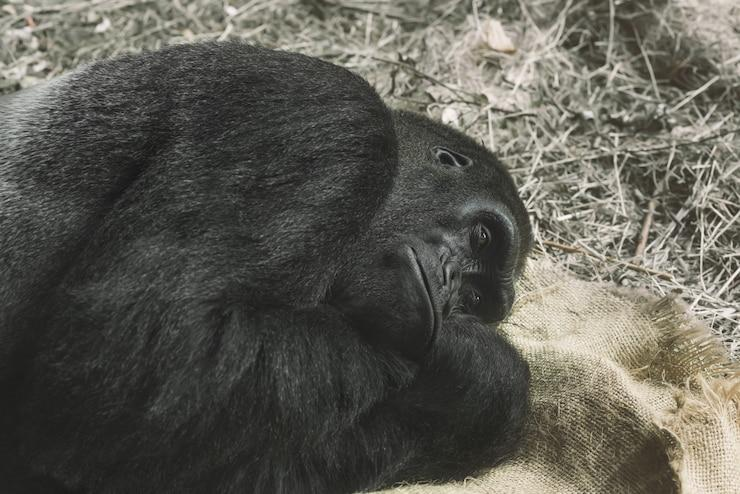gorille_Autres: (0, 37, 617, 492)
